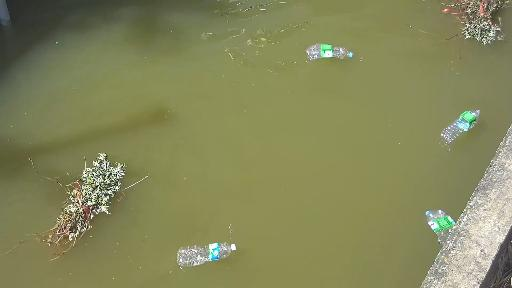plastic: (168, 235, 256, 267), (434, 110, 481, 146), (418, 208, 455, 243), (309, 38, 372, 58)
twig: (18, 133, 150, 261), (433, 0, 512, 49)
